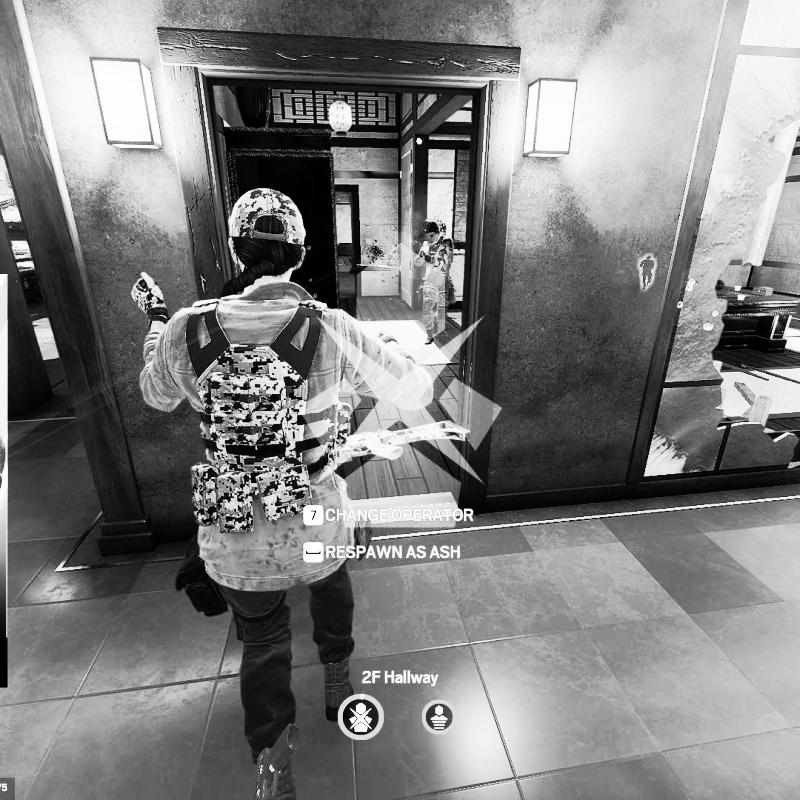Character: (128, 181, 440, 800), (417, 217, 456, 348)
Head: (221, 186, 309, 286), (422, 218, 442, 246)
